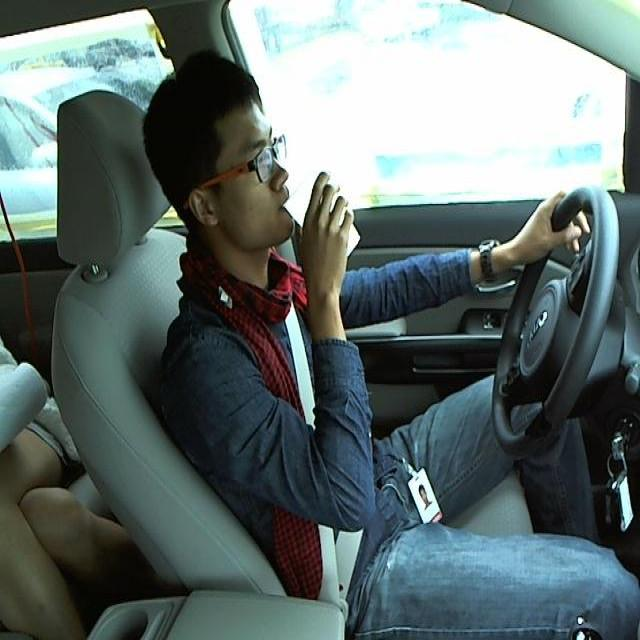drinking: (282, 170, 364, 262)
